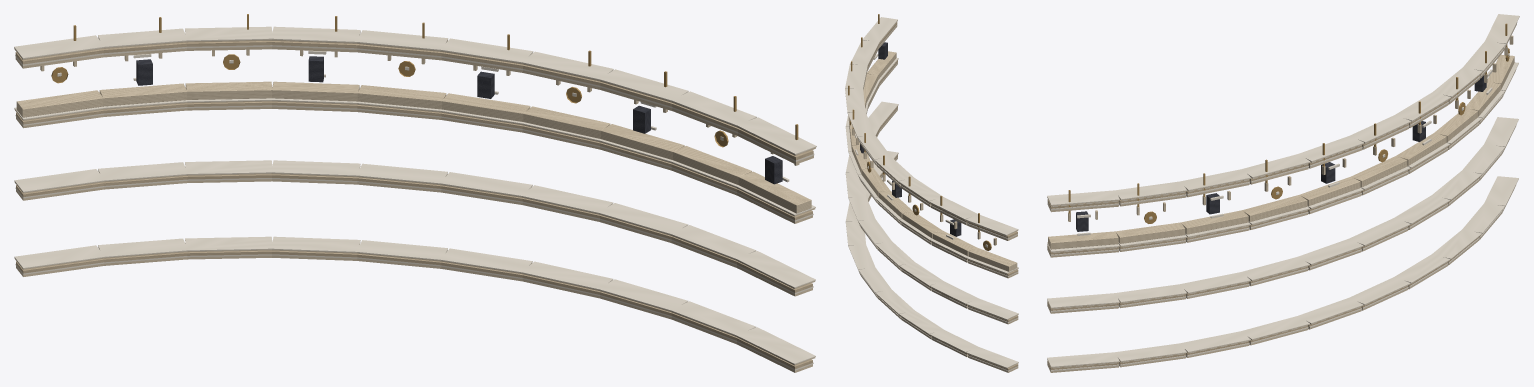
Rendered from COL_AtticCornice_Q4.obj.
The picture shows the model from 3 angles, left to right: view 1: azimuth 30°, elevation 25°; view 2: azimuth 150°, elevation 25°; view 3: azimuth 270°, elevation 25°; orthographic projection. The views are drawn at different scales.
Parts seen in each view (by area): view 1: COL_AtticCornice_Q4; view 2: COL_AtticCornice_Q4; view 3: COL_AtticCornice_Q4.
Boxes of the visible parts, x1,y1,x2,y2 form: COL_AtticCornice_Q4: [14, 14, 816, 372]; COL_AtticCornice_Q4: [845, 14, 1018, 372]; COL_AtticCornice_Q4: [1047, 14, 1519, 372].
Bounding box in the file's own units: 111 × 49 × 116.
5 materials, 5 textured.
